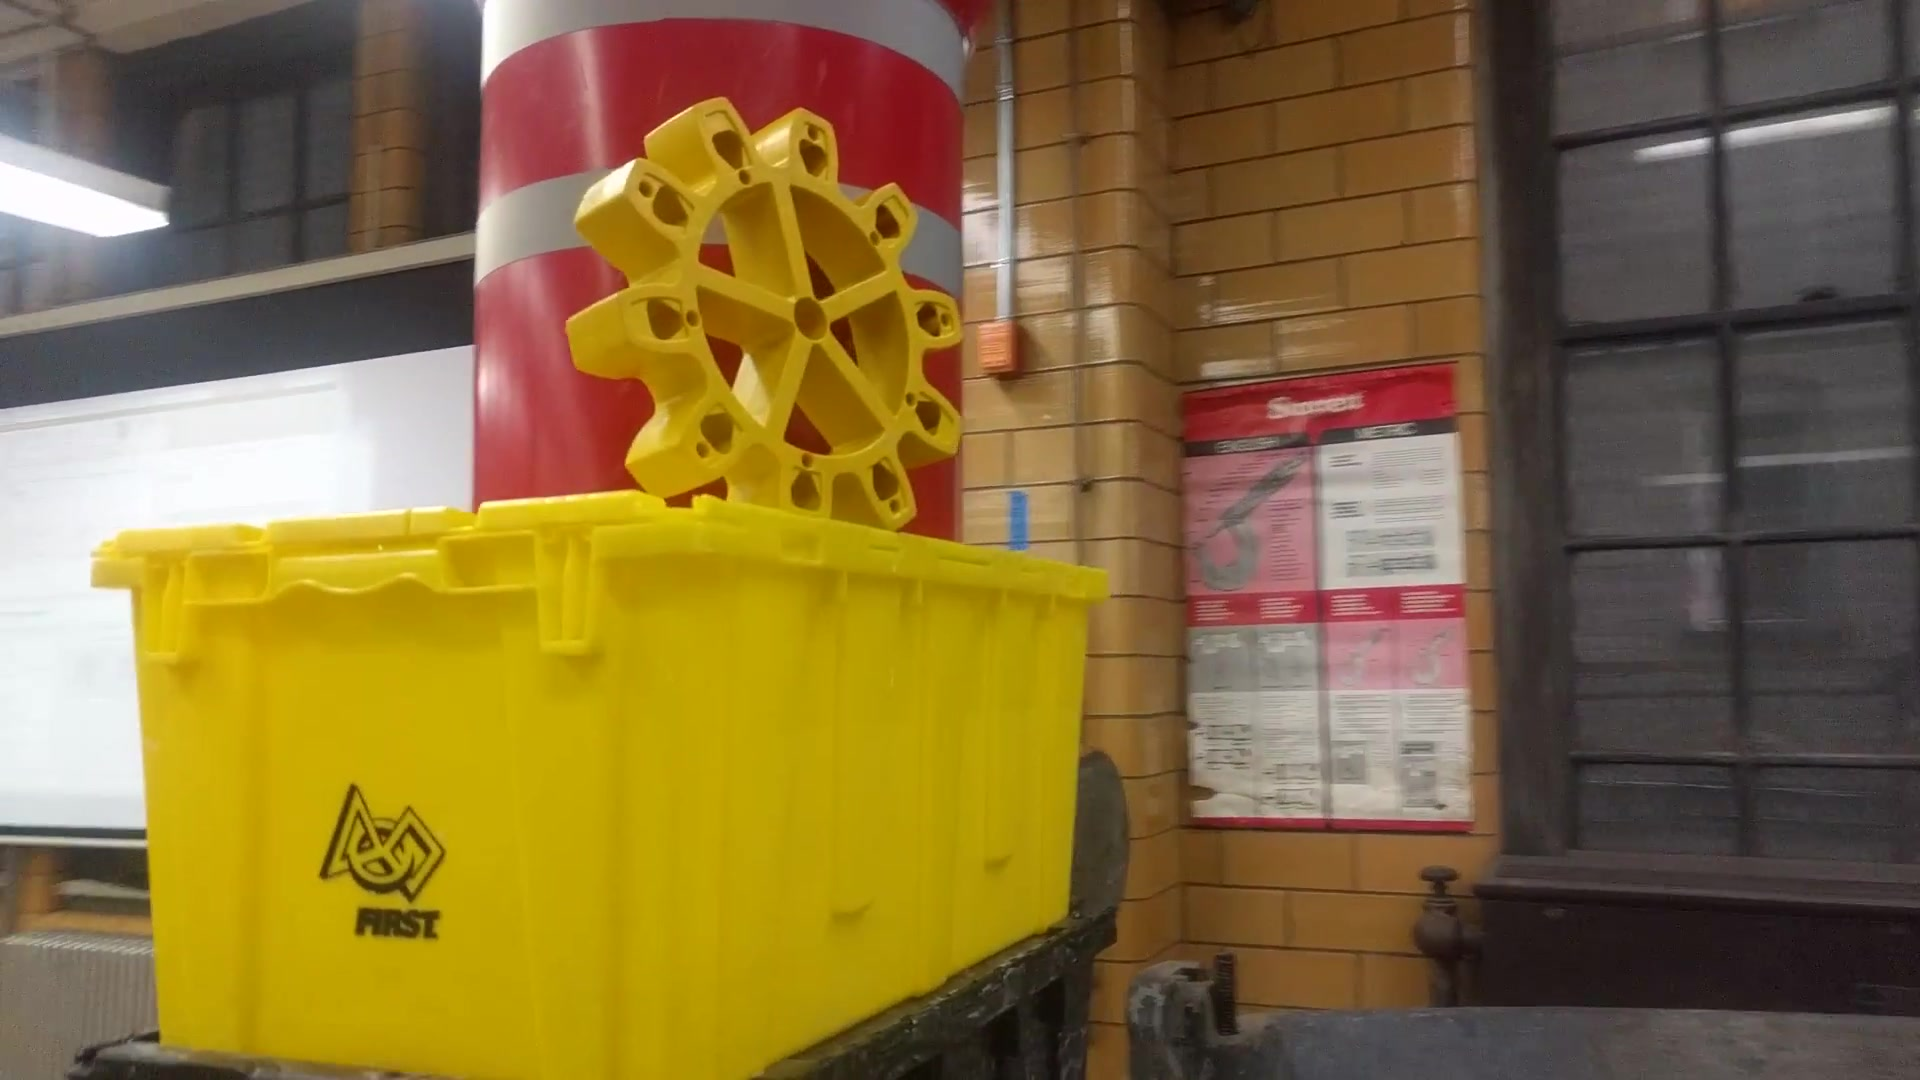gear: (553, 78, 973, 589)
